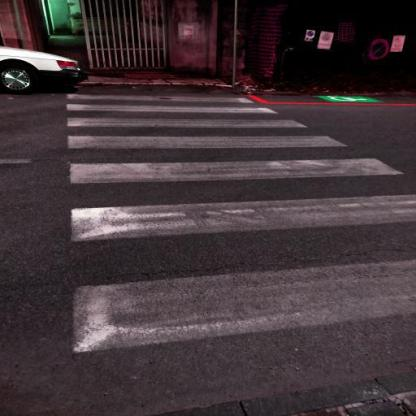crosswalk: (51, 132, 410, 190), (62, 93, 285, 117)
